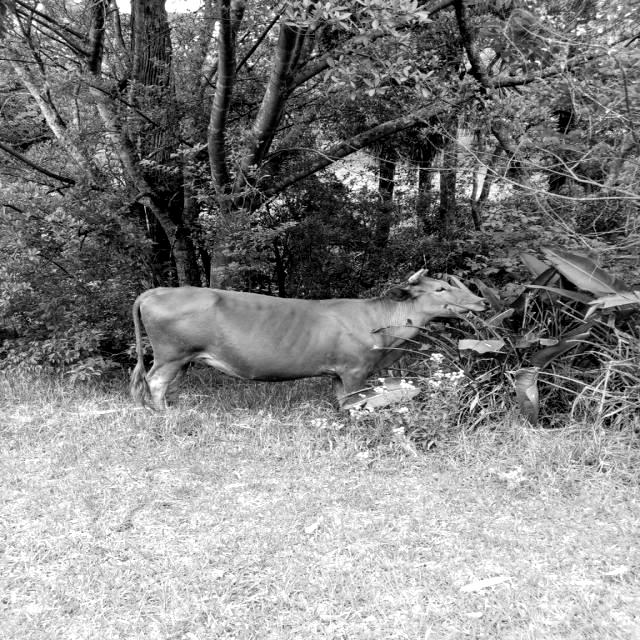COW: (130, 270, 486, 408)
